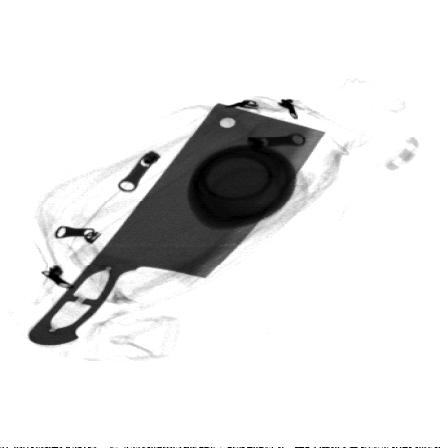Knife: (26, 101, 328, 348)
